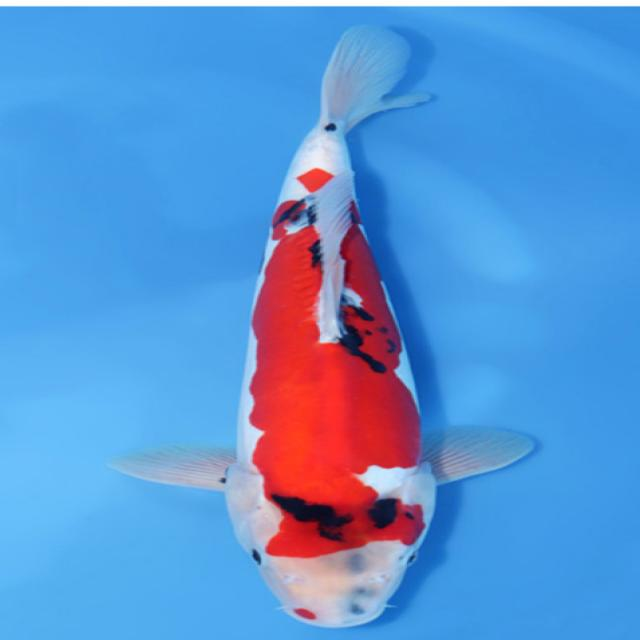Showa: (107, 22, 536, 628)
